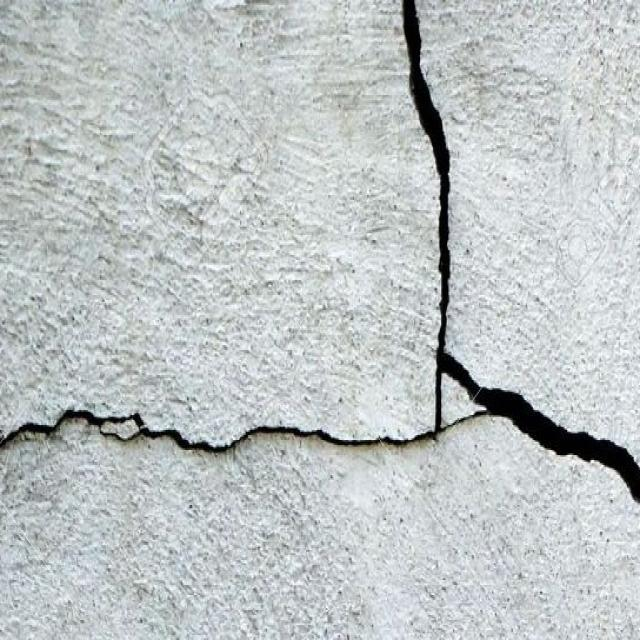Annular: (435, 356, 489, 437), (101, 412, 144, 441)
Diagonal: (491, 387, 640, 502)
Longitudinal: (399, 0, 453, 349)
Transverse: (0, 397, 438, 452)
